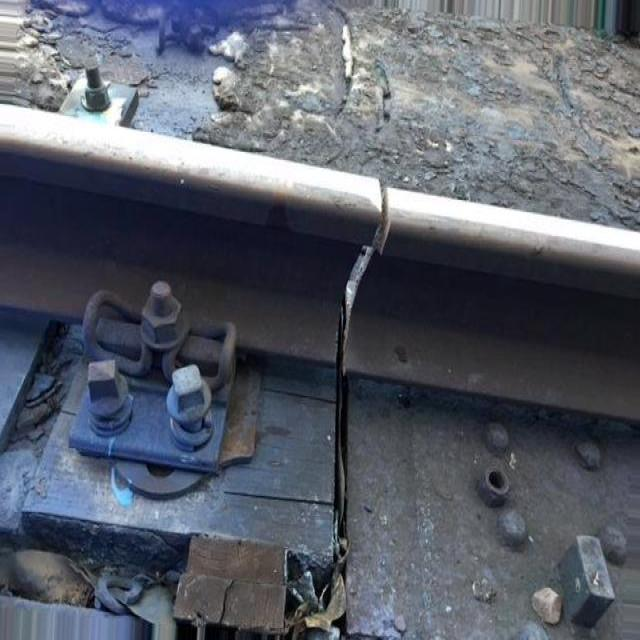crack: (283, 132, 445, 640)
